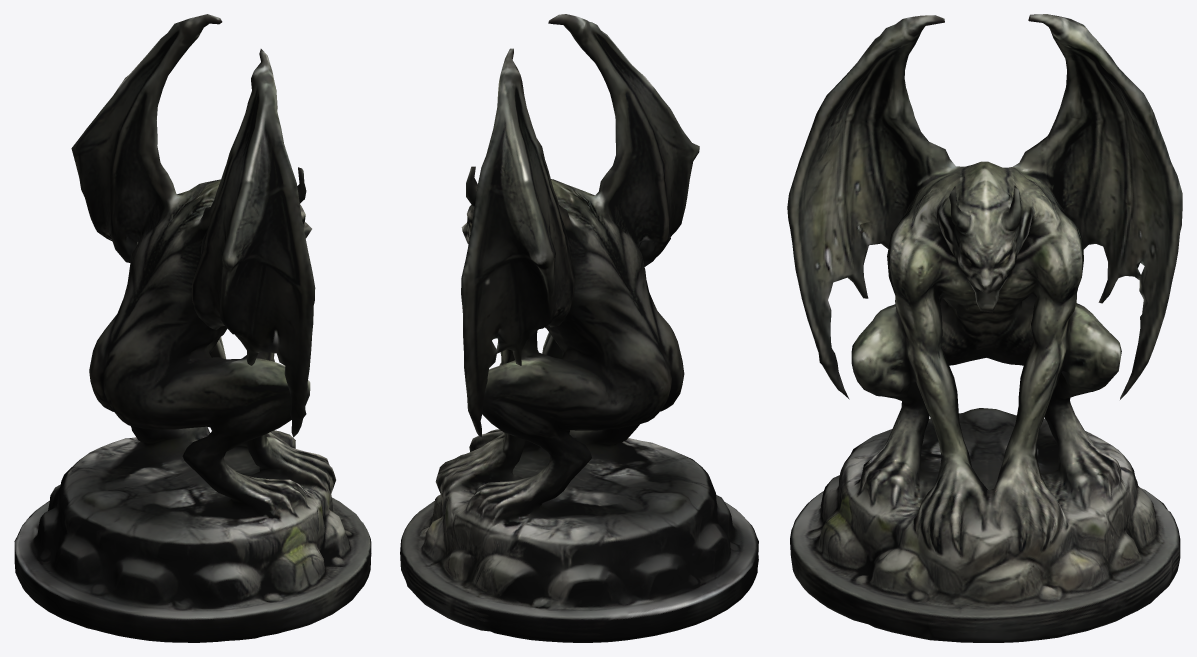
The model's file is gargoyle.glb.
3 renders of one model, left to right at view 1: azimuth 30°, elevation 25°; view 2: azimuth 150°, elevation 25°; view 3: azimuth 270°, elevation 25°, orthographic. The views are drawn at different scales.
Visible parts, largest first — view 1: lagrange_node; view 2: lagrange_node; view 3: lagrange_node.
Boxes of the visible parts, x1=… form: lagrange_node: x1=14, y1=14, x2=371, y2=642; lagrange_node: x1=400, y1=14, x2=758, y2=642; lagrange_node: x1=787, y1=14, x2=1182, y2=642.
Bounding box in the file's own units: 1.24 × 2.01 × 1.26.
Materials: 1 (1 with a texture image).
